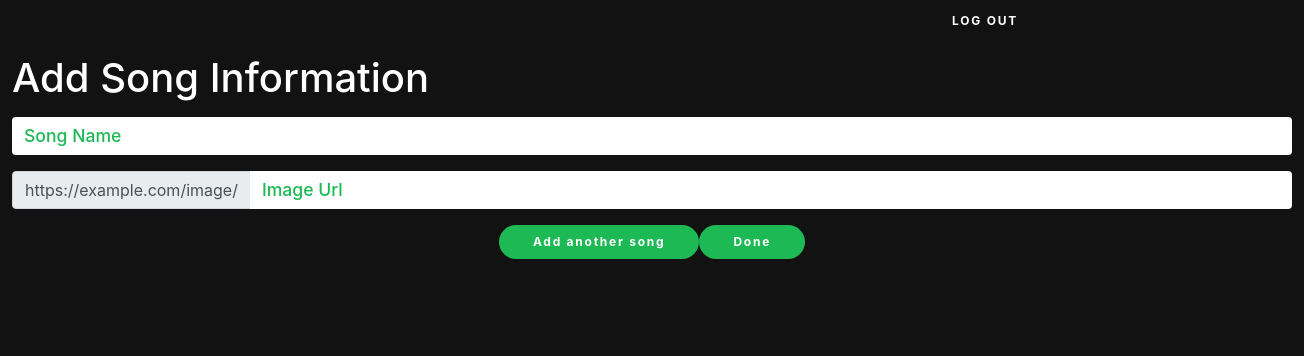
AddSong ValidateSongName function test › Song Name input Empty check
Click the button with id "submit".
click(599, 242)  # box x1=499 y1=225 x2=699 y2=259
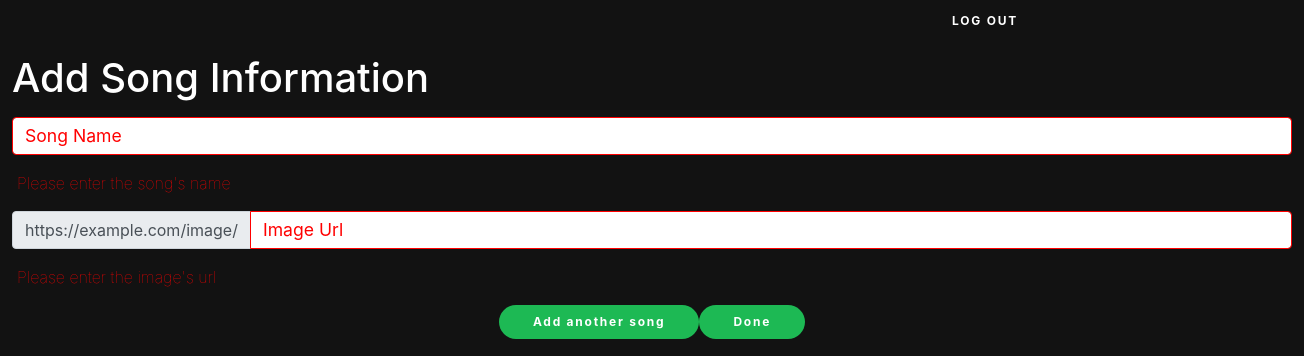
Result: the text with id "error-message1" reads "Please enter the song's name" at x1=17 y1=173 x2=231 y2=193
